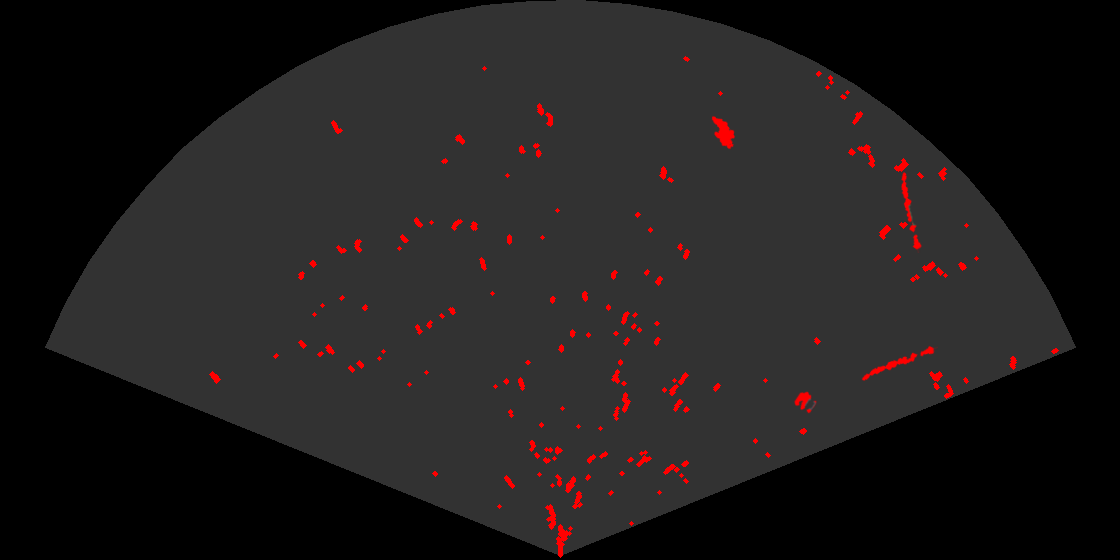AUV: (710, 114, 737, 151)
ball: (792, 390, 818, 415)
chain: (860, 344, 938, 382), (900, 170, 923, 253)
